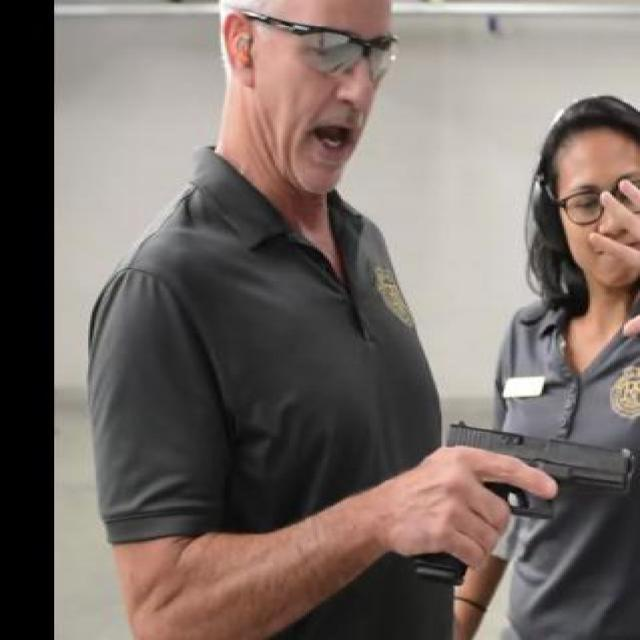weapon: (413, 421, 634, 585)
